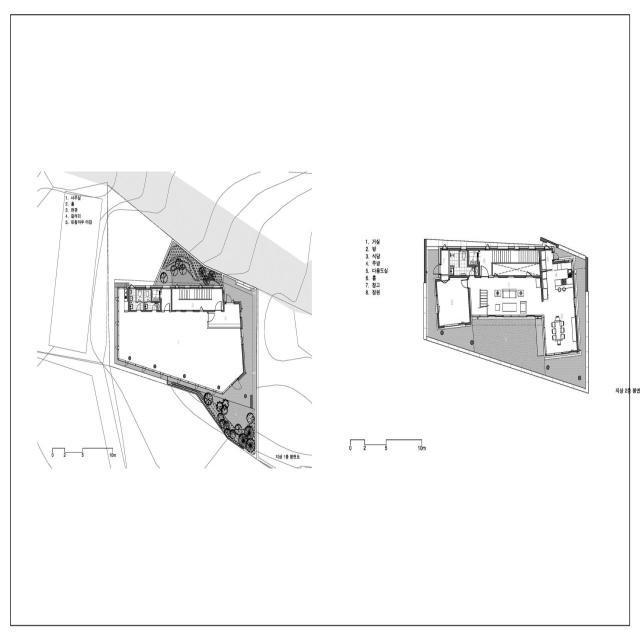space_bedroom: (437, 278, 470, 326)
space_elevator: (469, 250, 478, 265)
space_elevator_hall: (480, 250, 491, 275)
space_front: (208, 304, 241, 327)
space_kitchen: (542, 262, 577, 354), (119, 289, 128, 311)
space_living_room: (469, 277, 542, 315)
space_other: (119, 311, 243, 393), (172, 289, 223, 310), (540, 250, 553, 271), (160, 289, 171, 310), (441, 250, 448, 274), (152, 289, 160, 301), (441, 276, 448, 280), (476, 267, 479, 275), (158, 303, 160, 310)
space_staircase: (491, 250, 539, 262), (179, 289, 212, 300)
space_toilet: (450, 250, 475, 276), (129, 289, 143, 310), (144, 289, 151, 302), (144, 303, 157, 310), (137, 289, 143, 302)
